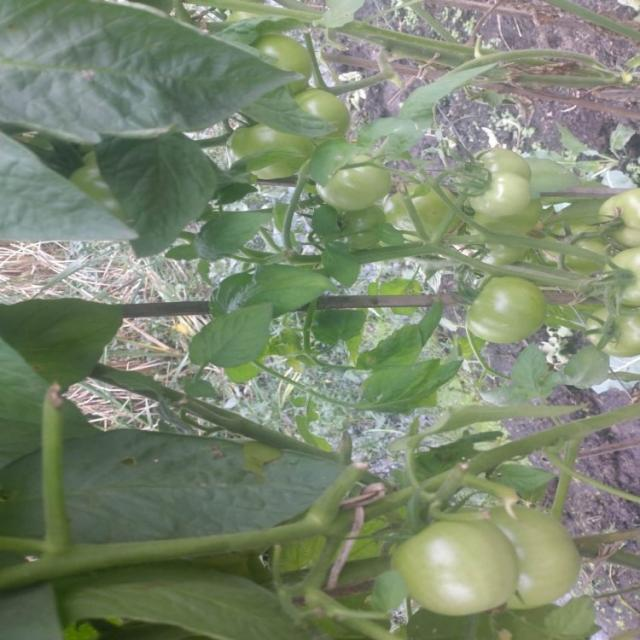tomato: (397, 502, 521, 628), (501, 492, 586, 620), (33, 116, 124, 200), (462, 141, 549, 219), (286, 67, 370, 143), (460, 265, 536, 343), (238, 104, 310, 180), (300, 153, 398, 208), (390, 174, 472, 236), (250, 21, 318, 83), (584, 292, 640, 362), (588, 183, 640, 254), (590, 249, 640, 302)
